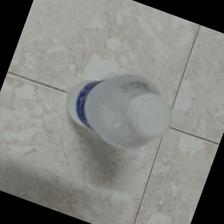Aquafina: (66, 75, 172, 161)
